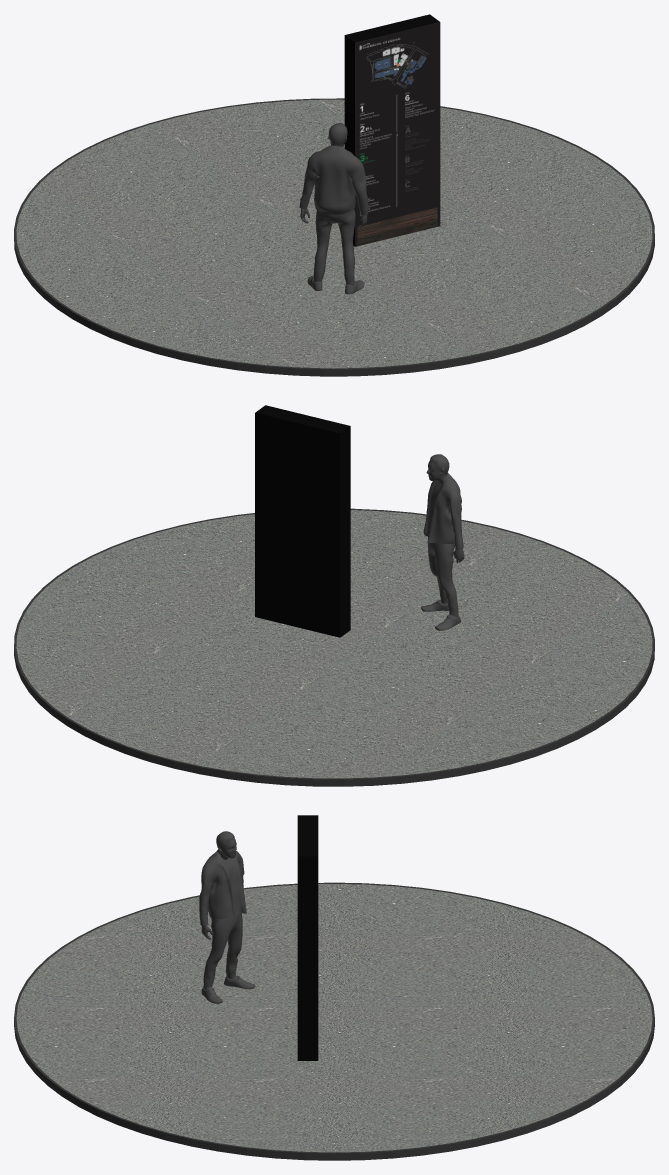
File: Directional_01.glb
3 renders of one model, top to bottom at view 1: azimuth 30°, elevation 25°; view 2: azimuth 150°, elevation 25°; view 3: azimuth 270°, elevation 25°, orthographic.
Parts seen in each view (by area): view 1: Road, Directory, Kerb, Man; view 2: Road, Directory, Kerb, Man; view 3: Road, Kerb, Man, Directory.
Part boxes in pixels (x1,y1,x2,y2): Road: (16,99,652,368); Directory: (344,14,440,246); Kerb: (14,98,654,376); Man: (299,123,368,294); Road: (16,510,652,778); Directory: (255,405,350,637); Kerb: (14,508,654,786); Man: (421,454,464,630); Road: (16,884,652,1152); Kerb: (14,882,654,1160); Man: (199,831,255,1003); Directory: (297,815,318,1060).
Size of the model in its own units: 6.2 by 2.26 by 6.2.
5 materials, 2 textured.
